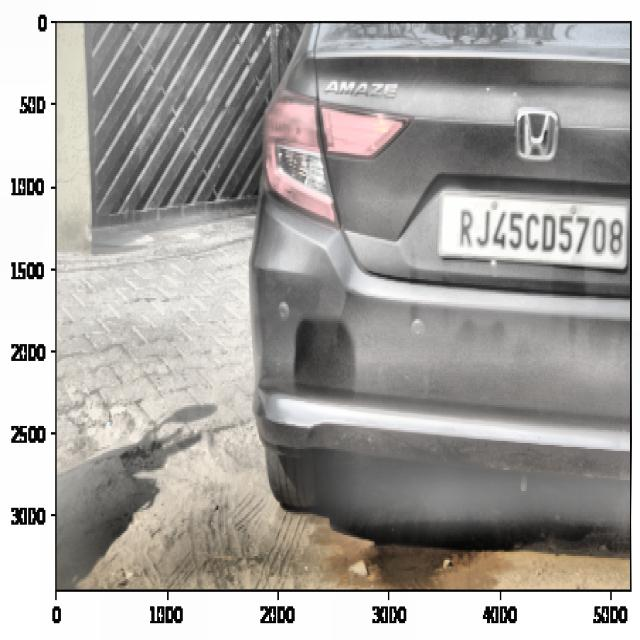license_plate: (449, 199, 628, 272)
